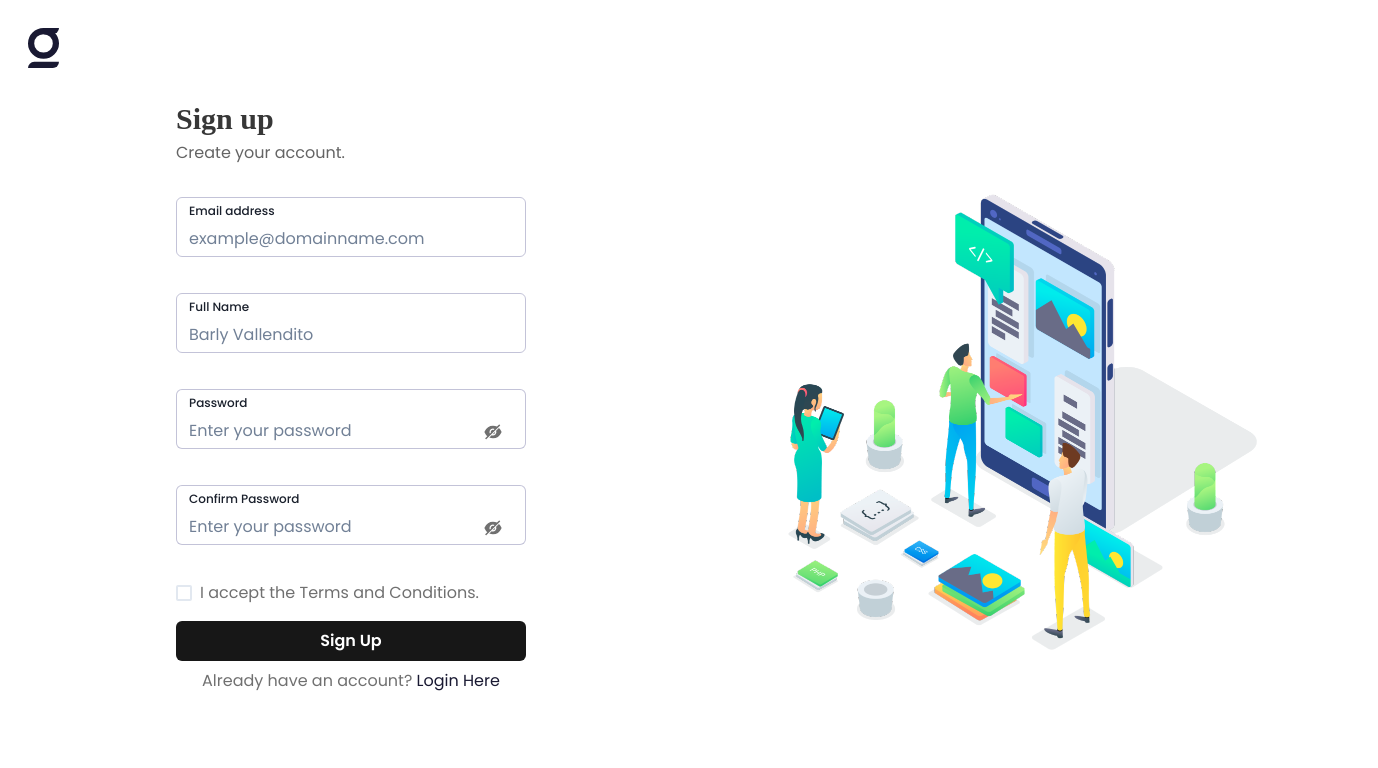
it: Signin related test › if user sign up without accepting terms and conditions
This screenshot has width=1378, height=768.
Type "nimeshshrestha7@gmail.com" into the field labelled "Email address". click: (351, 238)
box: [189,220,513,256]
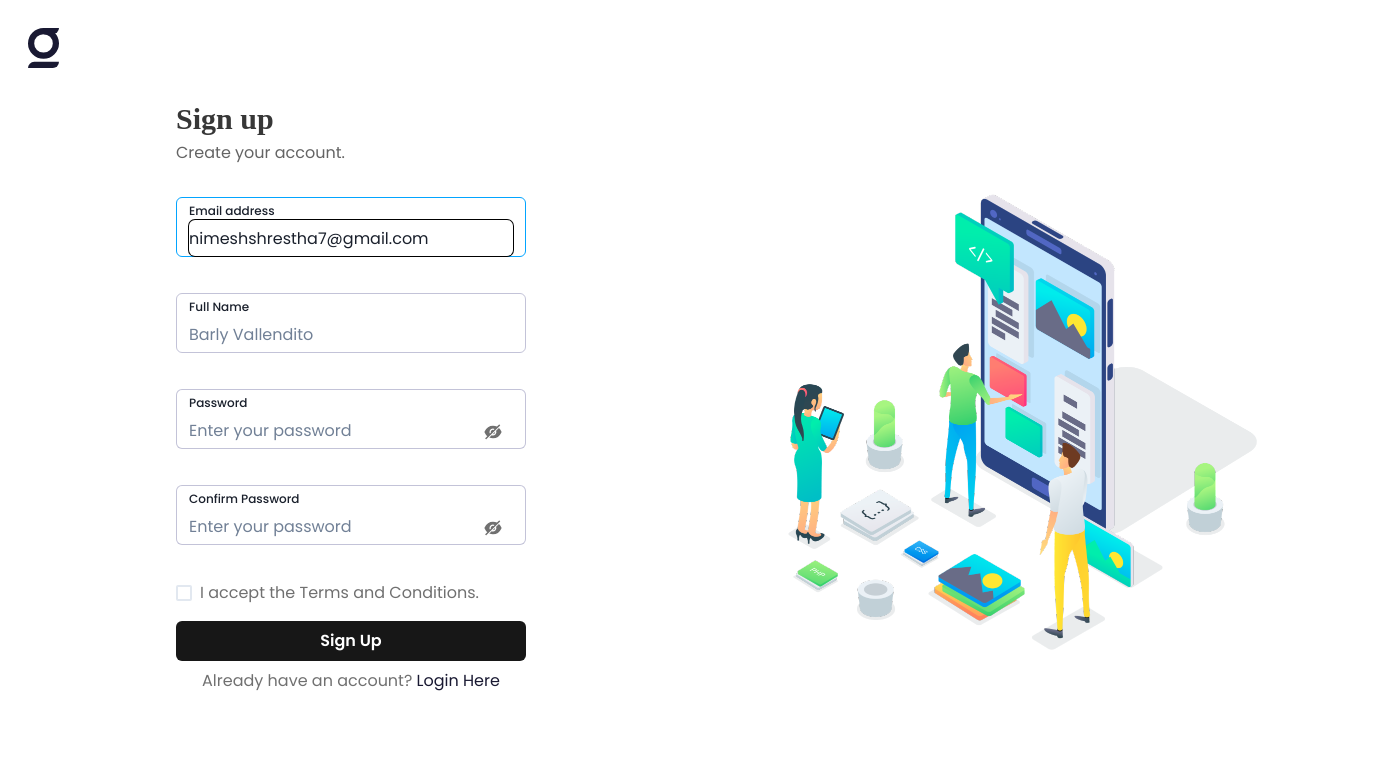
Type "Nimesh" into the field labelled "Full Name". click: (351, 334)
box: [189,316,513,352]
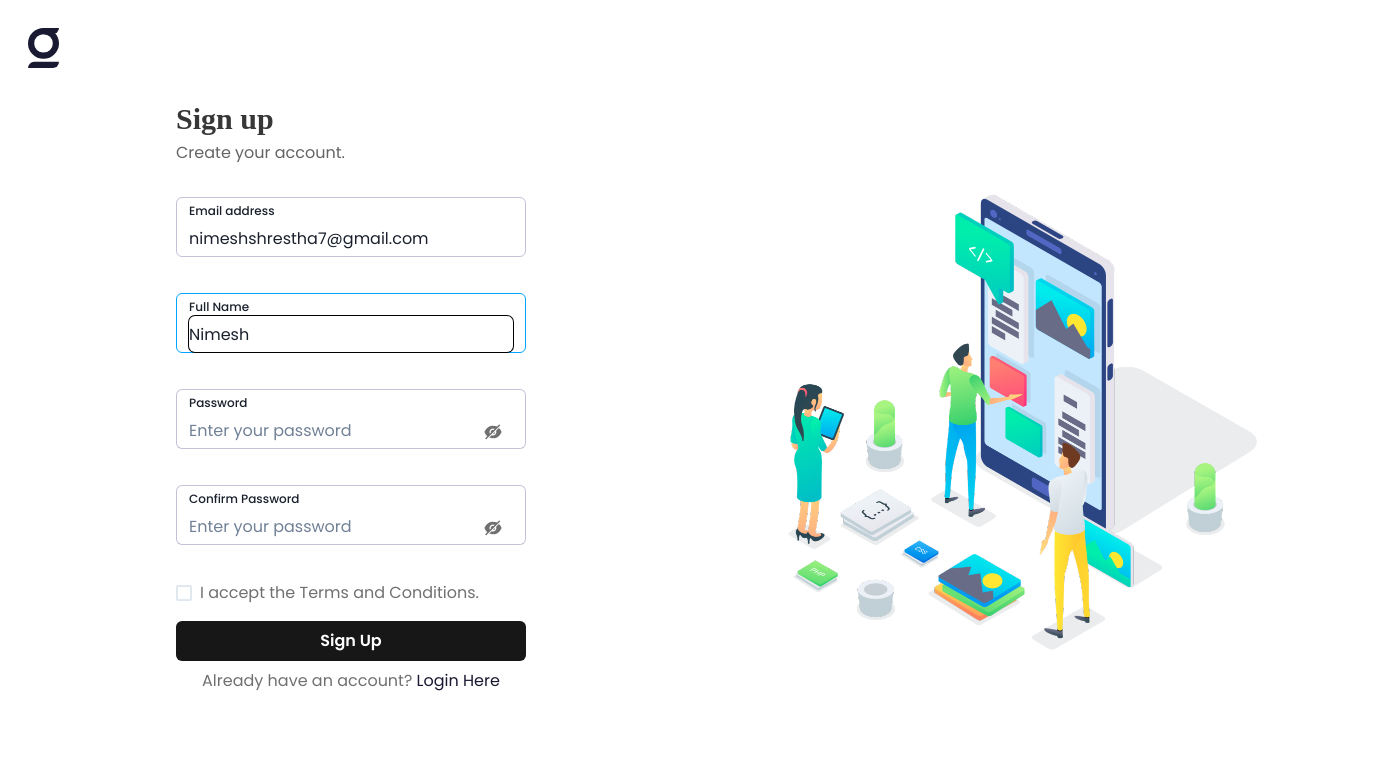
Type "YQ4eFtC4GmCwK8c@" into the password field labelled "Password". click: (351, 430)
box: [189,412,513,448]
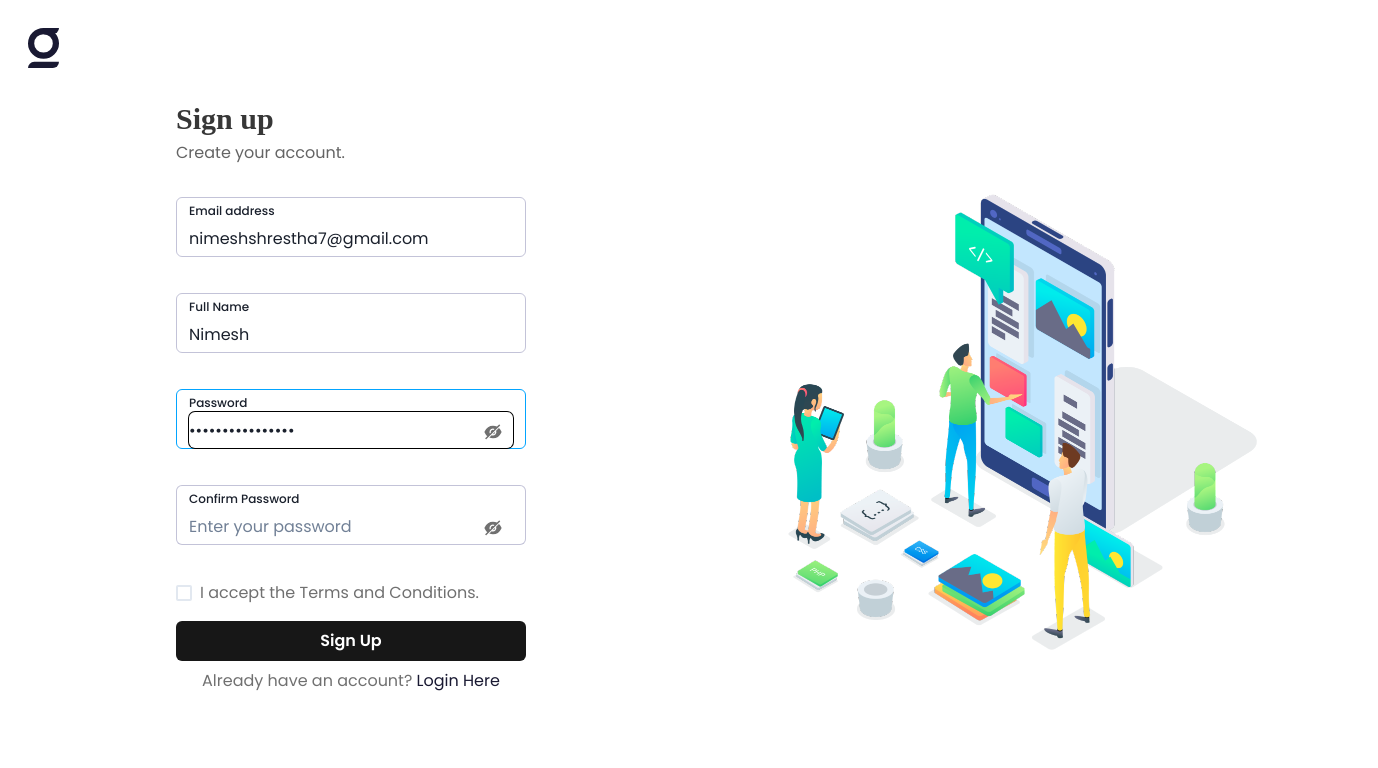
Type "YQ4eFtC4GmCwK8c@" into the password field with id "confirm_password". click: (351, 526)
box: [189,508,513,544]
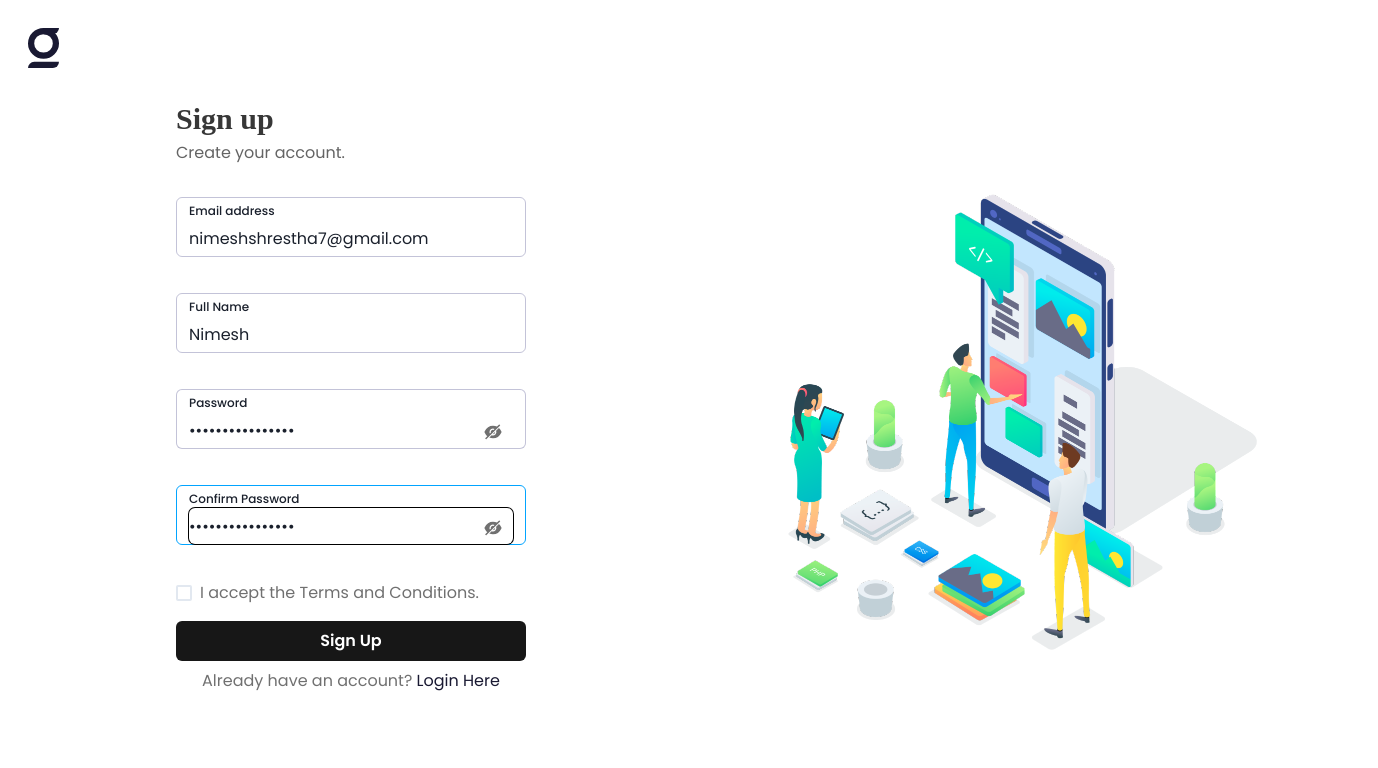
Click the button "Sign Up". click: (351, 641)
box: [176,621,526,661]
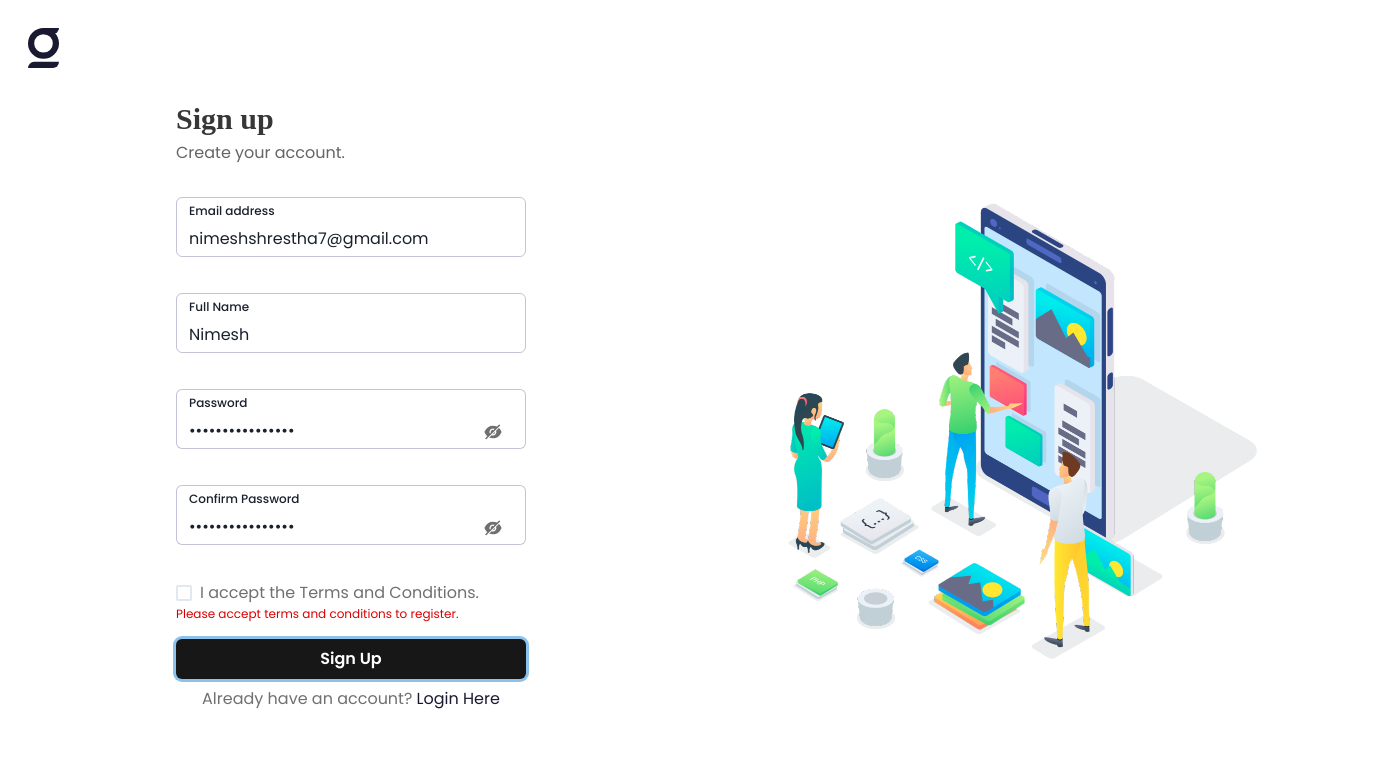
Expected: the text "Please accept terms and conditions to register." is shown, [176,605,458,622]
